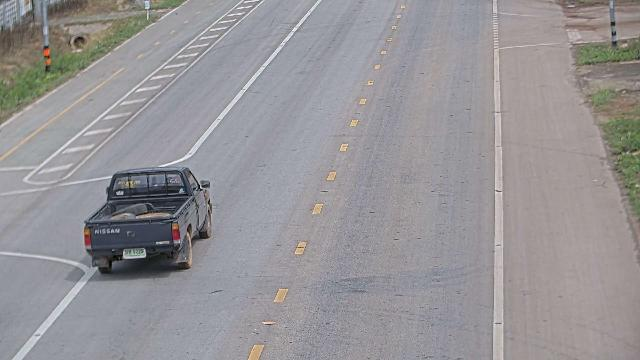pickup-truck: (83, 165, 213, 274)
